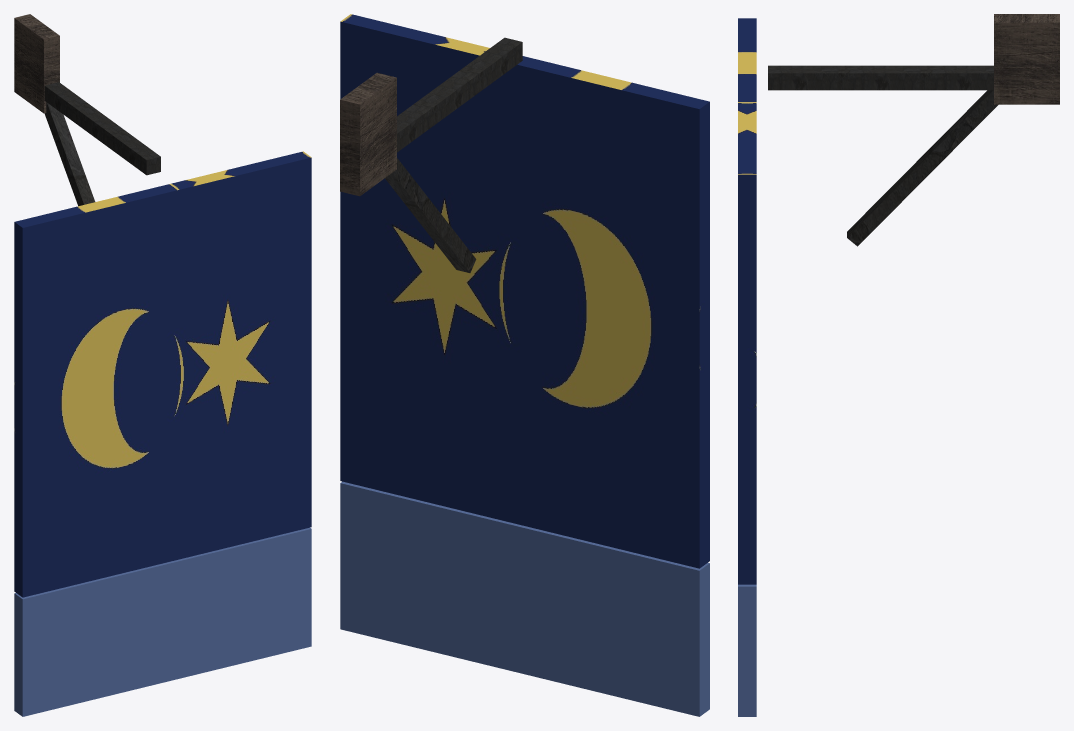
File: prop_hk_pennant_mage.glb
3 views of the same model, side by side, from view 1: azimuth 30°, elevation 25°; view 2: azimuth 150°, elevation 25°; view 3: azimuth 270°, elevation 25° (orthographic). The views are drawn at different scales.
Visible parts, largest first — view 1: prop_hk_pennant_mage; view 2: prop_hk_pennant_mage; view 3: prop_hk_pennant_mage.
Boxes of the visible parts, x1,y1,x2,y2 form: prop_hk_pennant_mage: (14, 14, 311, 716); prop_hk_pennant_mage: (340, 14, 709, 716); prop_hk_pennant_mage: (738, 14, 1059, 716).
Bounding box in the file's own units: 0.9 × 1.66 × 0.7825.
Materials: 4 (3 with a texture image).
